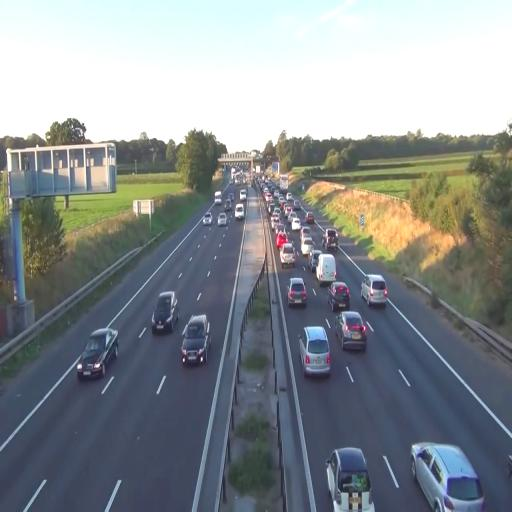vehicle: (410, 442, 486, 511), (325, 446, 374, 512), (77, 326, 119, 380), (299, 325, 331, 377), (180, 315, 210, 366), (340, 310, 367, 354), (152, 292, 178, 334), (361, 274, 389, 309), (328, 280, 351, 313), (316, 253, 337, 285), (287, 277, 308, 308), (280, 244, 297, 268), (234, 202, 246, 221), (217, 213, 227, 226), (204, 212, 212, 226)
